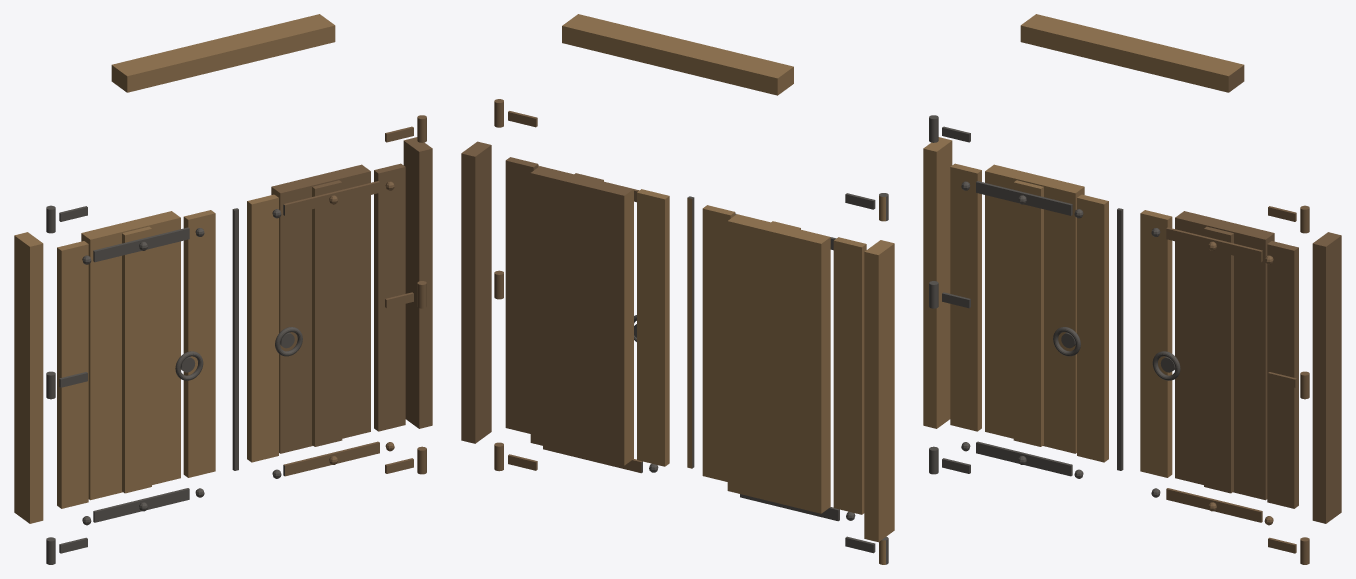
Rendered from double_door.glb.
3 renders of one model, left to right at view 1: azimuth 30°, elevation 25°; view 2: azimuth 150°, elevation 25°; view 3: azimuth 330°, elevation 25°, orthographic. The views are drawn at different scales.
Parts seen in each view (by area): view 1: double_door; view 2: double_door; view 3: double_door.
Boxes of the visible parts, x1,y1,x2,y2 form: double_door: (14, 14, 432, 564); double_door: (461, 14, 894, 564); double_door: (923, 14, 1341, 564).
Bounding box in the file's own units: 1.78 × 1.95 × 0.193.
